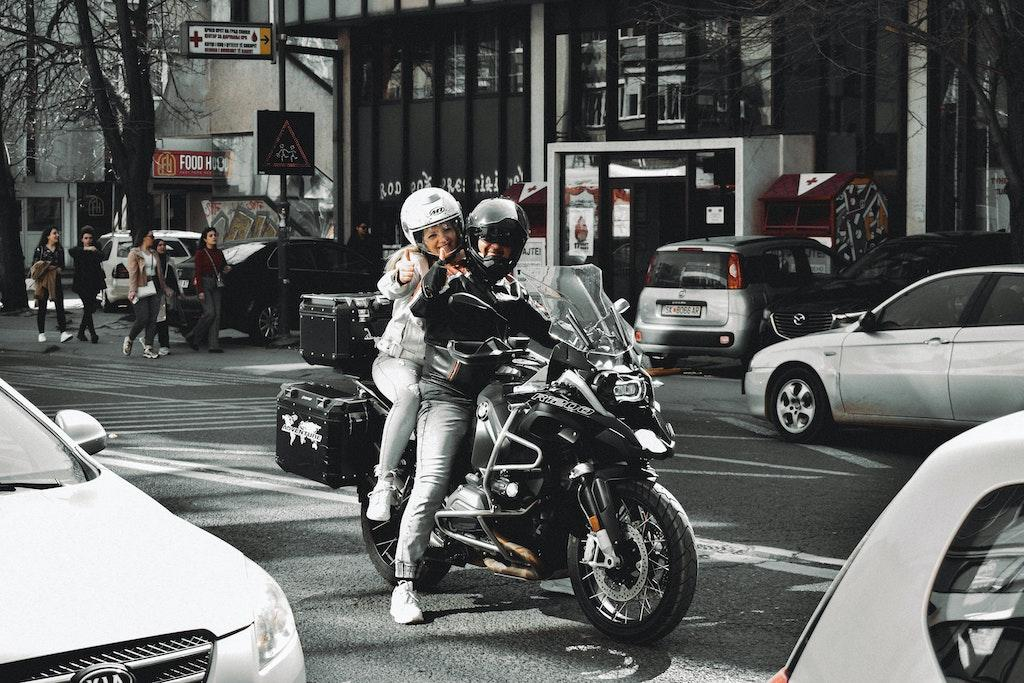helmet: (462, 194, 531, 287), (399, 186, 468, 264)
